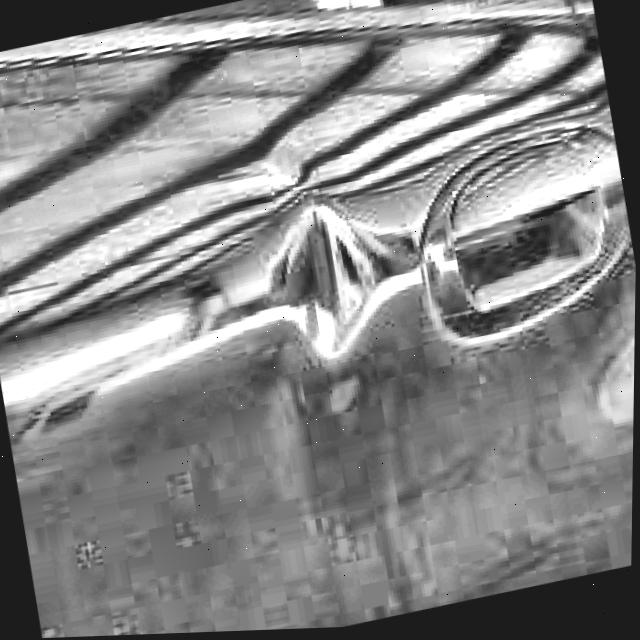door_dent: (250, 196, 401, 373)
